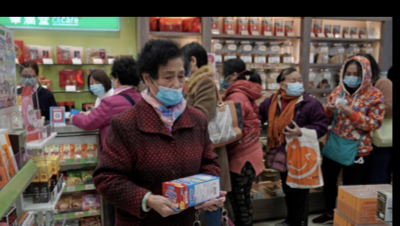mask_weared_incorrect: (154, 67, 186, 105)
with_mask: (285, 76, 305, 97), (344, 69, 365, 87), (90, 78, 106, 96), (20, 70, 36, 87), (221, 69, 233, 88)
